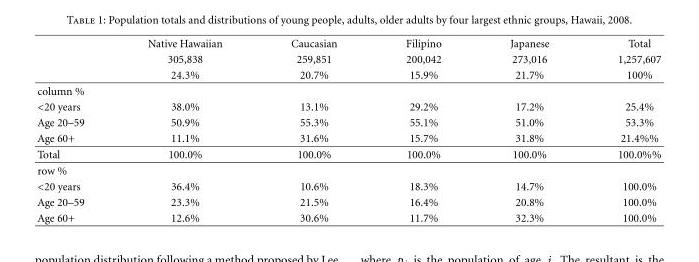table: (36, 37, 660, 223)
table column: (115, 37, 255, 223), (255, 37, 370, 223), (475, 37, 582, 223), (370, 37, 475, 223), (36, 37, 115, 223), (582, 37, 660, 223)
table column header: (36, 37, 660, 82)
table projected row header: (36, 82, 660, 98), (36, 162, 660, 178)
table row: (36, 145, 660, 162), (36, 50, 660, 66), (36, 66, 660, 82), (36, 82, 660, 98), (36, 98, 660, 114), (36, 114, 660, 130), (36, 162, 660, 178), (36, 178, 660, 194), (36, 130, 660, 145), (36, 194, 660, 209), (36, 209, 660, 223), (36, 37, 660, 50)
table spanning cell: (115, 37, 255, 82), (255, 37, 370, 82), (475, 37, 582, 82), (370, 37, 475, 82), (582, 37, 660, 82)
